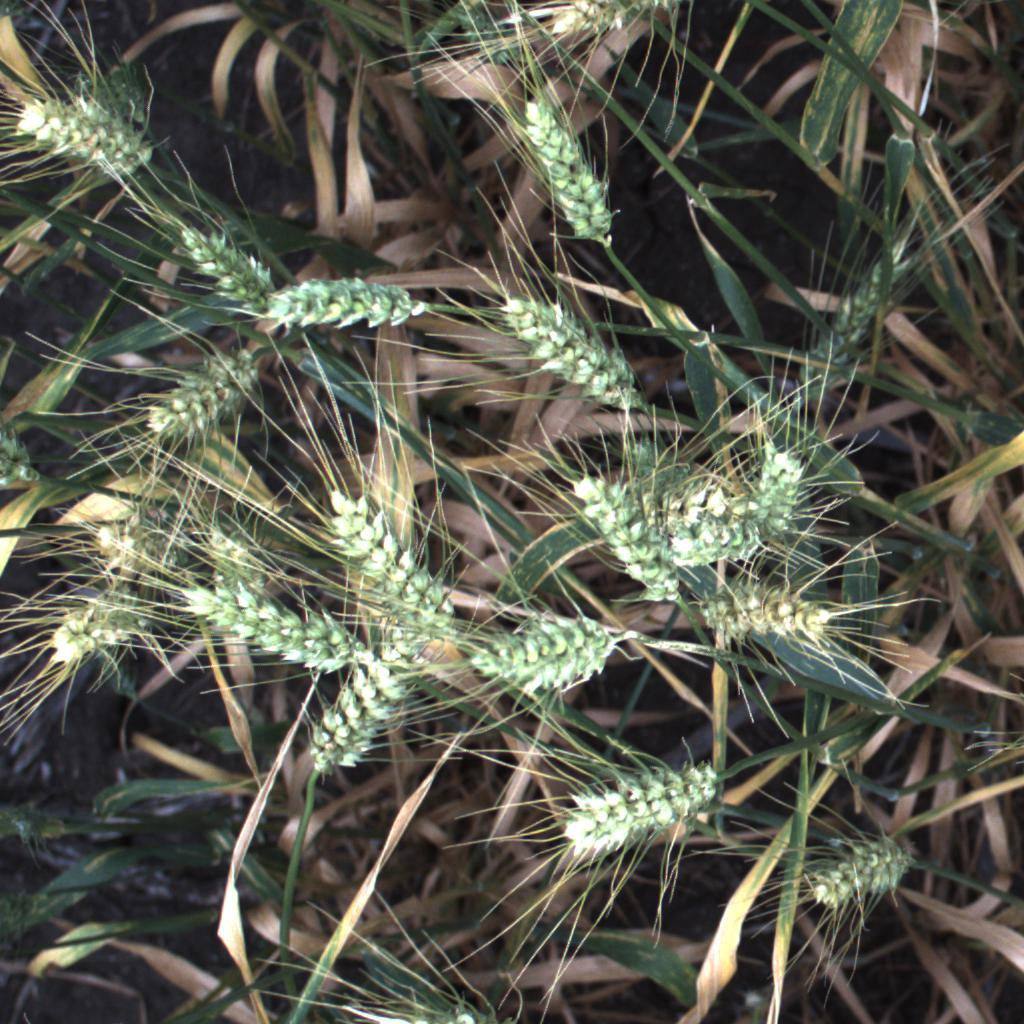0-0: (289, 597, 459, 790), (306, 471, 473, 642), (166, 566, 375, 686), (787, 219, 918, 405), (485, 283, 651, 420), (549, 747, 735, 869), (132, 332, 286, 466), (511, 85, 624, 252), (558, 466, 689, 610), (3, 82, 165, 185), (249, 266, 439, 342), (166, 205, 289, 322), (791, 822, 928, 921), (680, 580, 867, 650), (37, 584, 173, 675), (468, 609, 622, 687), (652, 479, 795, 563), (508, 0, 686, 56), (748, 420, 815, 555), (190, 519, 281, 605), (339, 988, 498, 1024), (88, 523, 165, 577)
